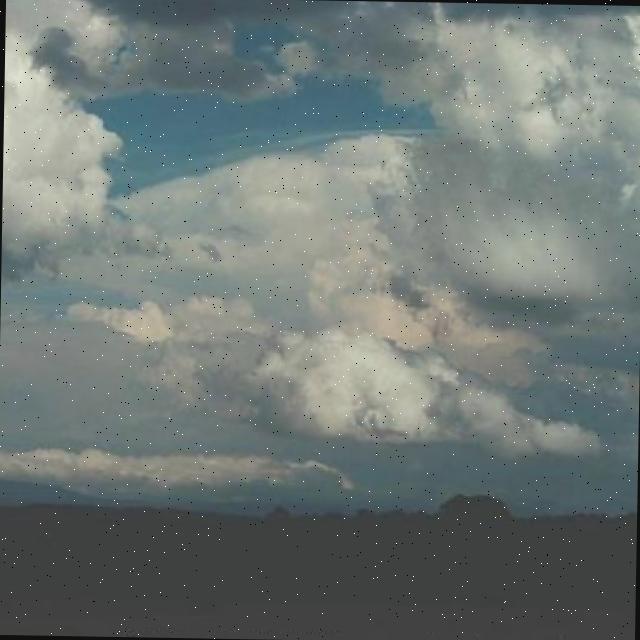Cu: (1, 21, 640, 463)
